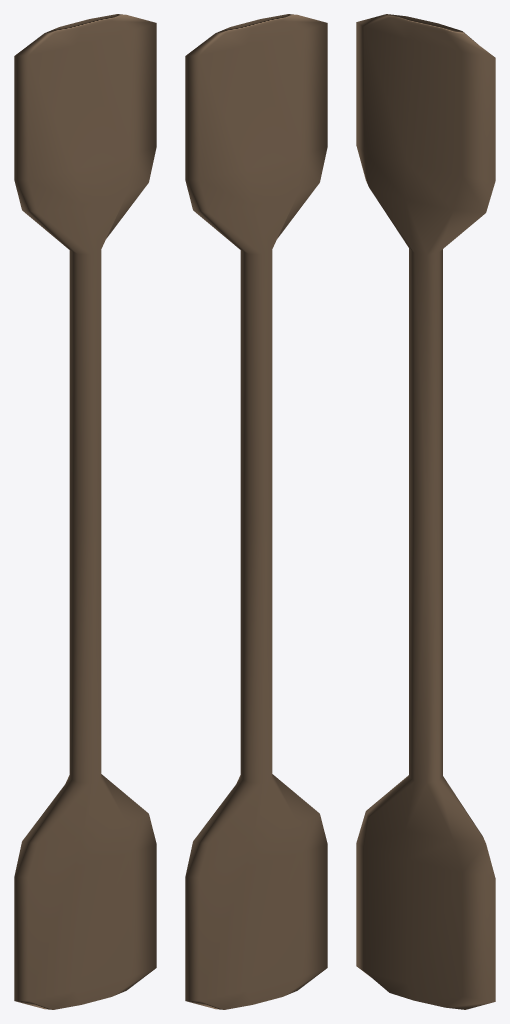
Rendered from Airo.fbx.
3 renders of one model, left to right at view 1: azimuth 30°, elevation 25°; view 2: azimuth 210°, elevation 25°; view 3: azimuth 330°, elevation 25°, orthographic.
Parts seen in each view (by area): view 1: Cylinder.002; view 2: Cylinder.002; view 3: Cylinder.002.
Boxes of the visible parts, <box> form: Cylinder.002: <box>14,14,156,1009</box>; Cylinder.002: <box>185,14,327,1009</box>; Cylinder.002: <box>356,14,495,1009</box>.
Size of the model in its own units: 0.9521 by 6.31 by 0.1941.
